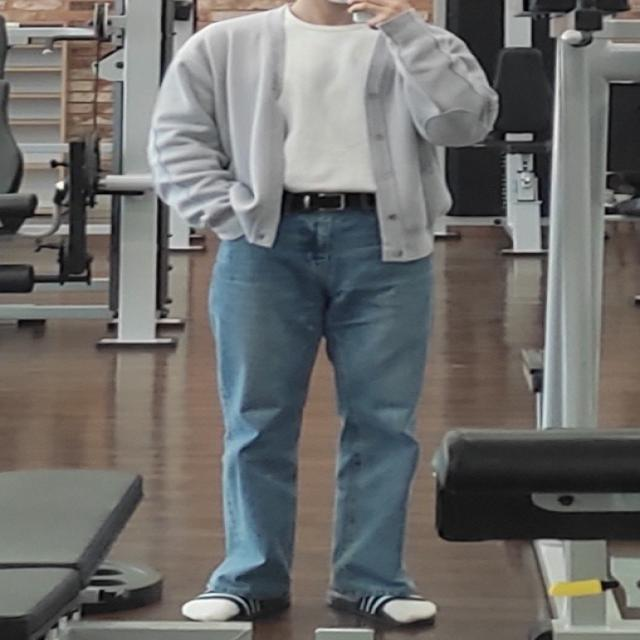cardigan: (148, 2, 499, 262)
denimpants: (210, 192, 437, 602)
